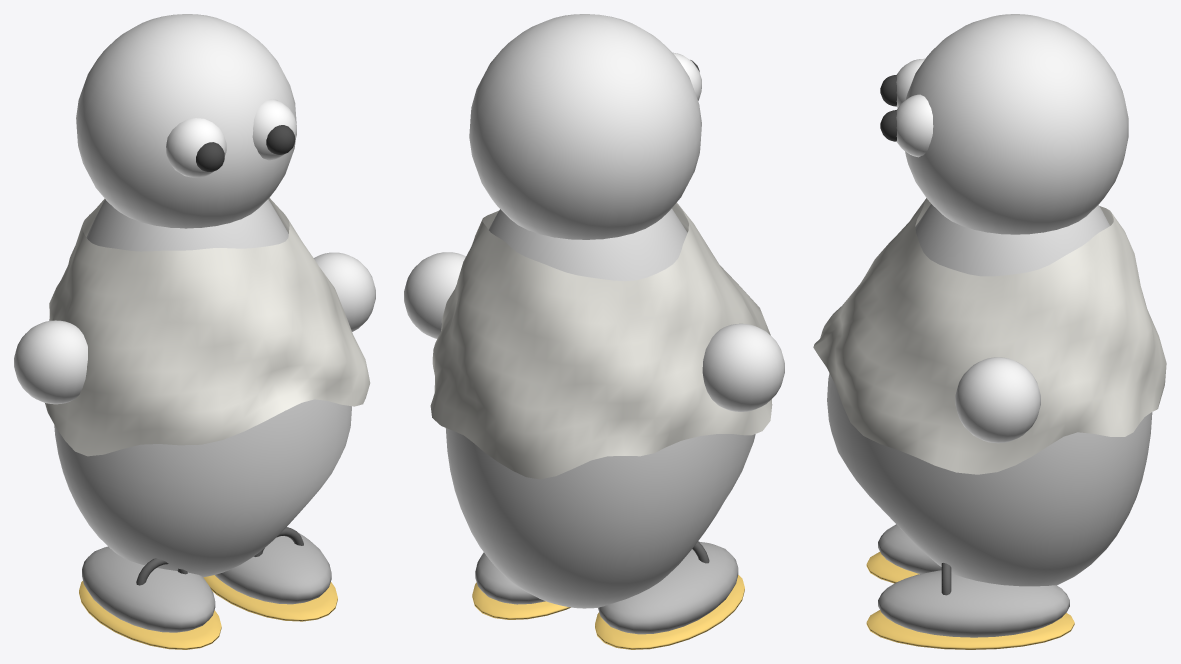
Rendered from blob_pear.glb.
3 views of the same model, side by side, from view 1: azimuth 30°, elevation 25°; view 2: azimuth 150°, elevation 25°; view 3: azimuth 270°, elevation 25° (orthographic). The views are drawn at different scales.
Parts seen in each view (by area): view 1: Singlet, Torso, Head, FootL, FootR, HandR, HandL, ThongL, ThongR, EyeL, EyeR, PupilR (+1 smaller); view 2: Singlet, Head, Torso, FootL, HandR, HandL, ThongL, FootR, ThongR; view 3: Singlet, Torso, Head, FootR, HandL, ThongR, EyeR, FootL, ThongL, EyeL.
Boxes of the visible parts, bbox=[...] form: Singlet: bbox=[45, 198, 370, 456]; Torso: bbox=[54, 199, 351, 577]; Head: bbox=[76, 14, 296, 228]; FootL: bbox=[82, 546, 215, 632]; FootR: bbox=[215, 527, 331, 604]; HandR: bbox=[14, 320, 87, 404]; HandL: bbox=[314, 252, 375, 331]; ThongL: bbox=[79, 581, 221, 649]; ThongR: bbox=[203, 575, 337, 621]; EyeL: bbox=[166, 118, 226, 177]; EyeR: bbox=[252, 99, 296, 160]; PupilR: bbox=[266, 125, 294, 154]; Singlet: bbox=[430, 202, 772, 479]; Head: bbox=[469, 14, 701, 239]; Torso: bbox=[445, 208, 755, 608]; FootL: bbox=[598, 541, 738, 634]; HandR: bbox=[702, 323, 784, 411]; HandL: bbox=[404, 252, 465, 338]; ThongL: bbox=[595, 575, 744, 649]; FootR: bbox=[475, 552, 545, 604]; ThongR: bbox=[472, 582, 570, 619]; Singlet: bbox=[813, 198, 1166, 474]; Torso: bbox=[827, 204, 1152, 586]; Head: bbox=[905, 14, 1128, 234]; FootR: bbox=[878, 570, 1069, 637]; HandL: bbox=[955, 357, 1040, 443]; ThongR: bbox=[866, 610, 1074, 649]; EyeR: bbox=[896, 94, 933, 157]; FootL: bbox=[878, 524, 941, 573]; ThongL: bbox=[866, 552, 919, 583]; EyeL: bbox=[896, 58, 924, 107].
Bounding box in the file's own units: 1.21 × 1.85 × 1.03.
